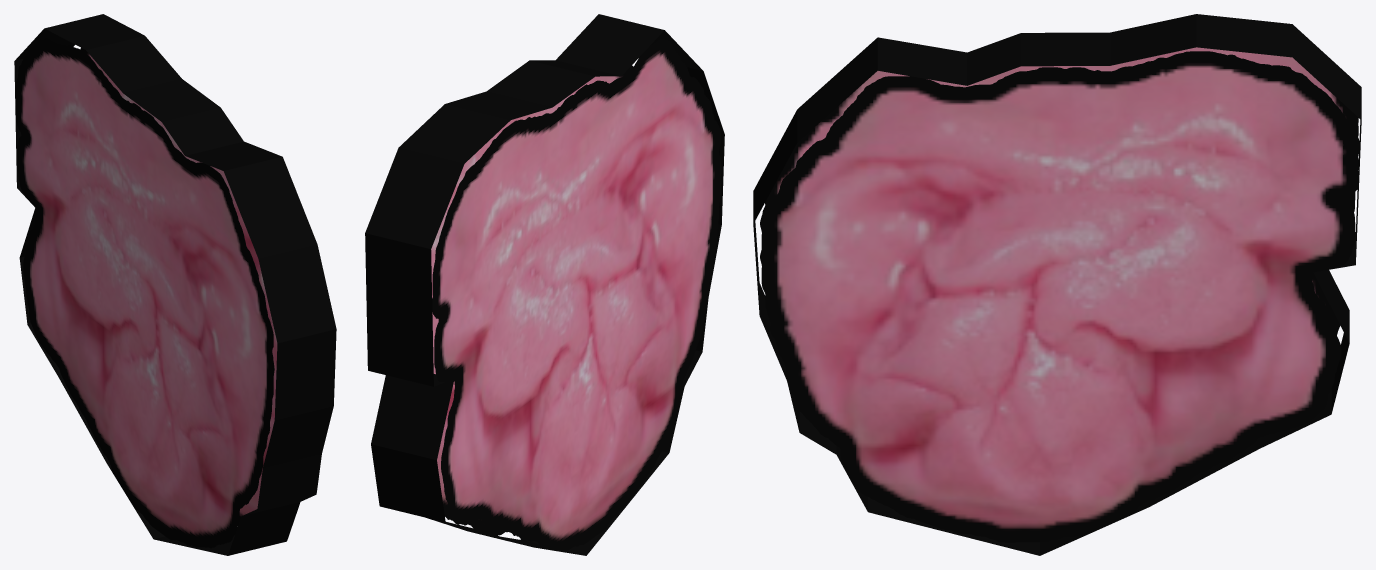
The model's file is Chewie.fbx.
3 views of the same model, side by side, from view 1: azimuth 30°, elevation 25°; view 2: azimuth 150°, elevation 25°; view 3: azimuth 270°, elevation 25° (orthographic). The views are drawn at different scales.
Parts seen in each view (by area): view 1: Gum; view 2: Gum; view 3: Gum.
Part boxes in pixels (<box>): Gum: <box>14,14,336,555</box>; Gum: <box>365,14,724,555</box>; Gum: <box>753,14,1361,555</box>.
Bounding box in the file's own units: 4.31 × 30.59 × 33.16.
